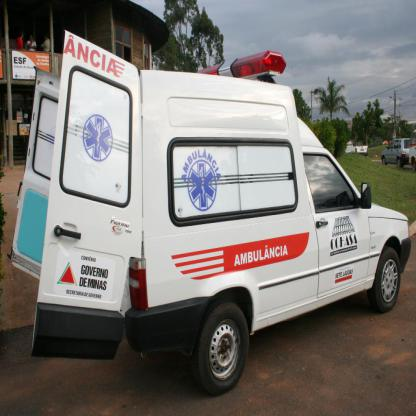Ambulance: (7, 29, 411, 396)
